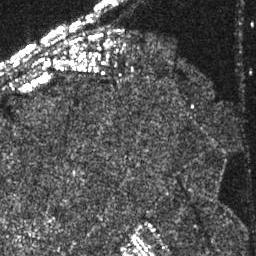ship: (9, 41, 35, 61), (41, 22, 65, 43)
